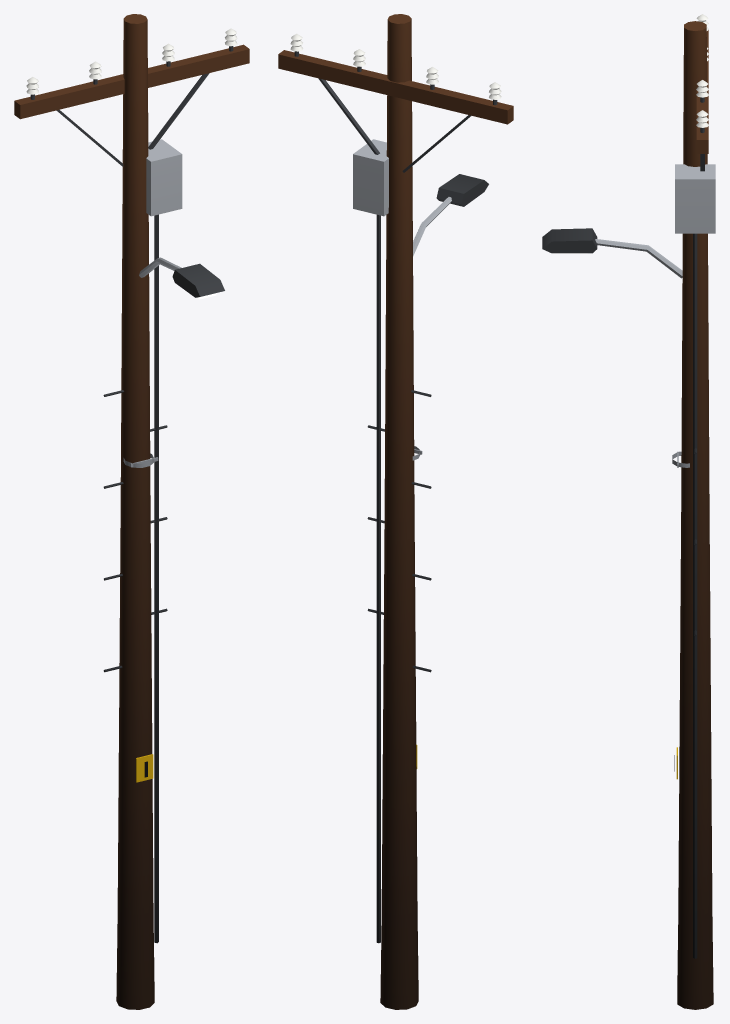
The model's file is Utility_Pole.fbx.
The picture shows the model from 3 angles, left to right: view 1: azimuth 30°, elevation 25°; view 2: azimuth 150°, elevation 25°; view 3: azimuth 270°, elevation 25°; orthographic projection.
Visible parts, largest first — view 1: Utility_Pole_LOD0; view 2: Utility_Pole_LOD0; view 3: Utility_Pole_LOD0.
Boxes of the visible parts, x1=… form: Utility_Pole_LOD0: x1=14, y1=14, x2=249, y2=1009; Utility_Pole_LOD0: x1=278, y1=14, x2=513, y2=1009; Utility_Pole_LOD0: x1=542, y1=14, x2=715, y2=1009.
Size of what is drawn, in the model's own units: 2.2 by 9 by 1.45.
1 material, 1 textured.
